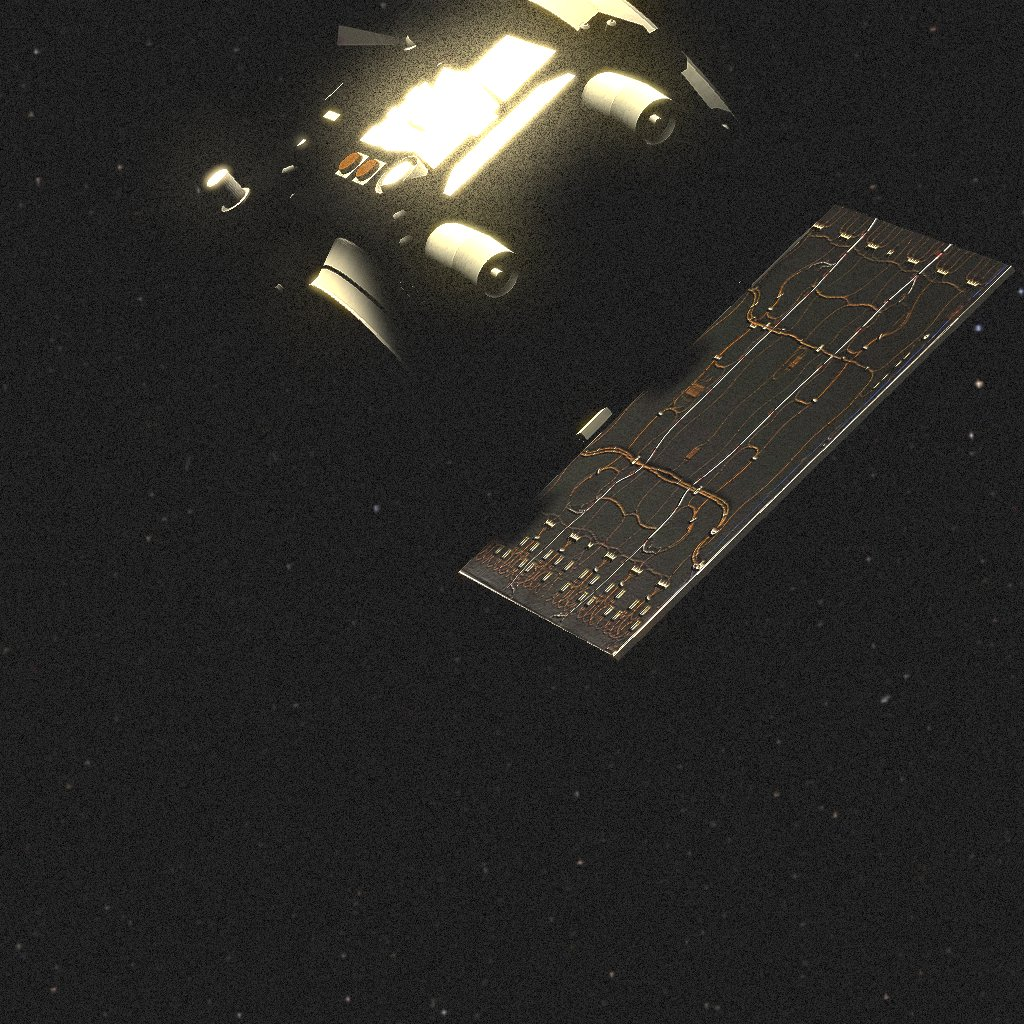proba_3_csc: (207, 0, 1015, 661)
